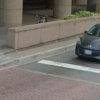Car: (72, 18, 100, 72)
